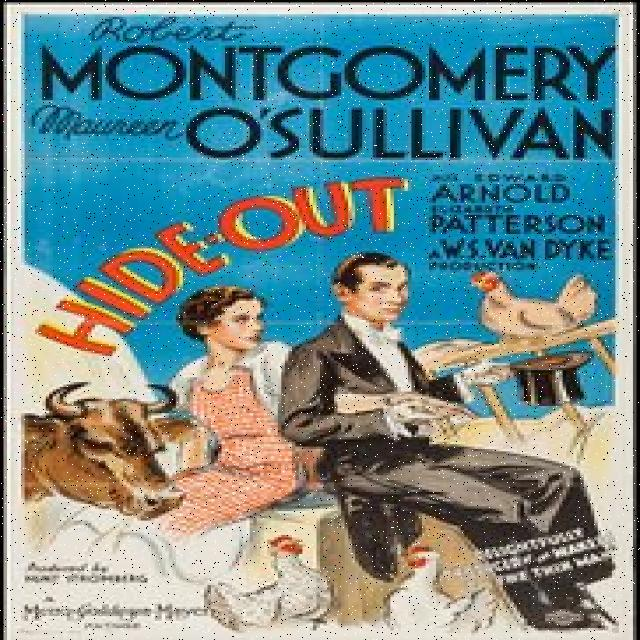movie-judul: (40, 176, 426, 359)
picture: (22, 250, 626, 640)
